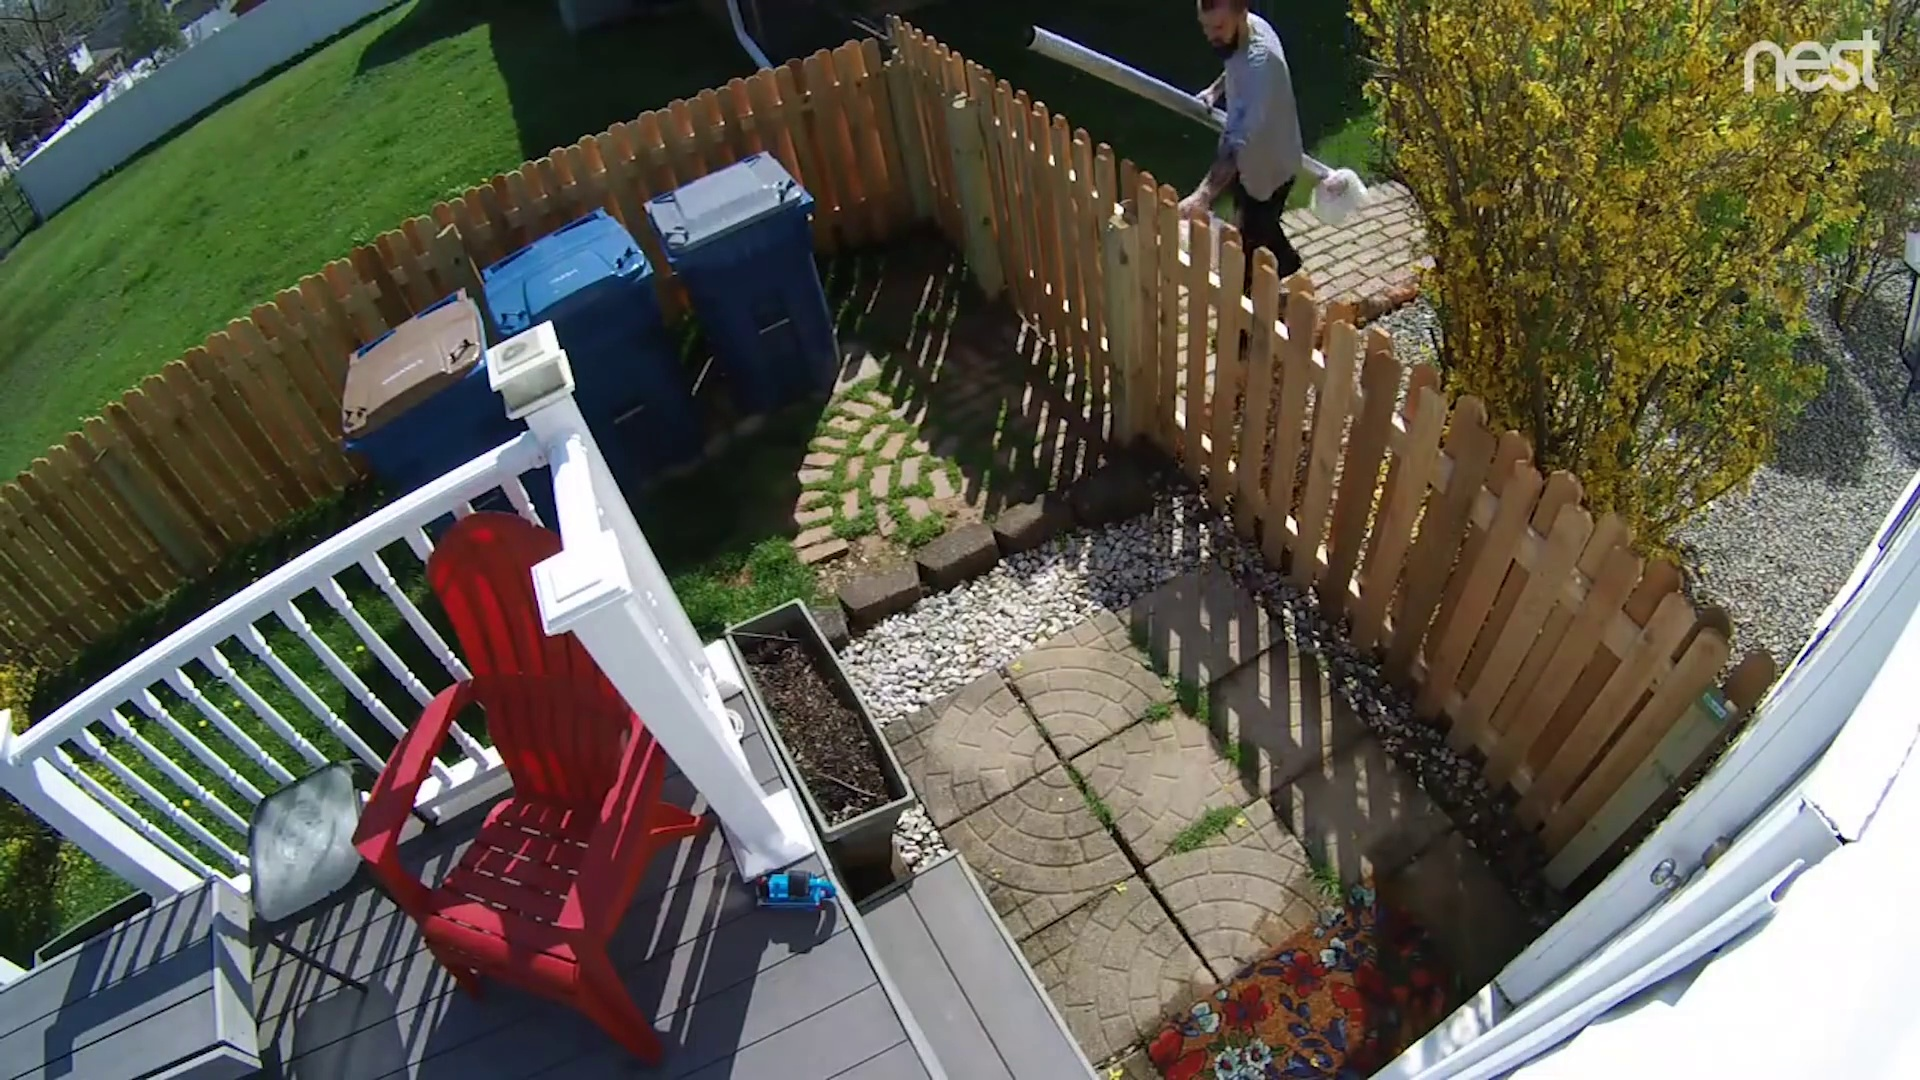face: (1197, 3, 1234, 56)
